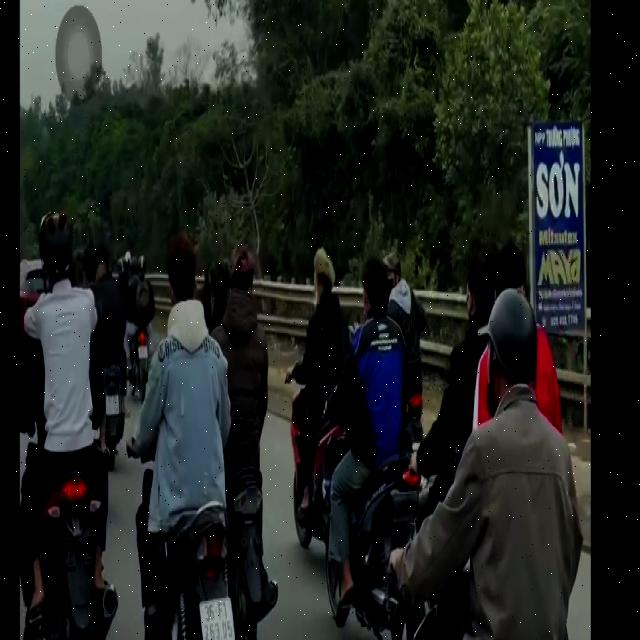helmet: (484, 285, 538, 423), (40, 210, 74, 308)
no_helmet: (465, 236, 499, 315), (166, 234, 192, 309), (361, 256, 385, 323), (313, 244, 336, 306)
